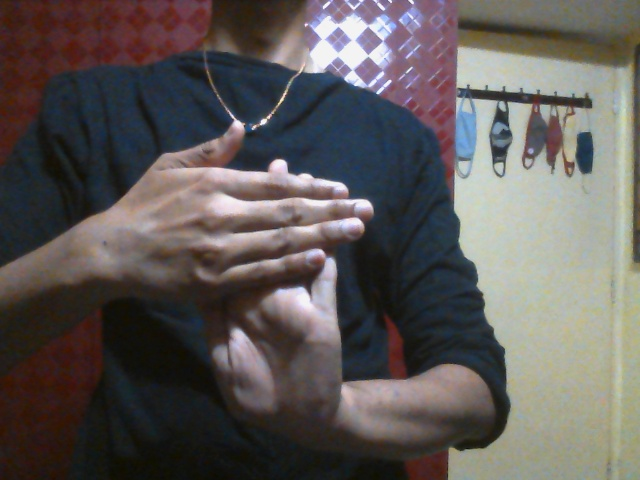H: (117, 117, 373, 431)
